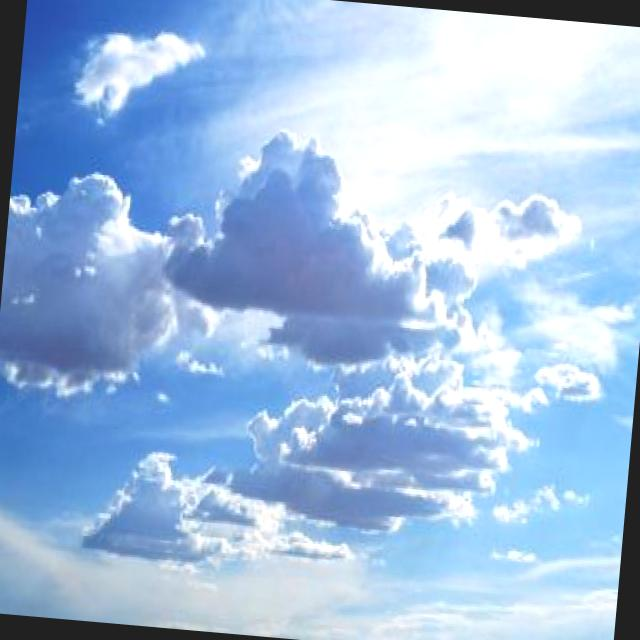cumulus: (159, 100, 508, 394), (0, 145, 205, 436)
